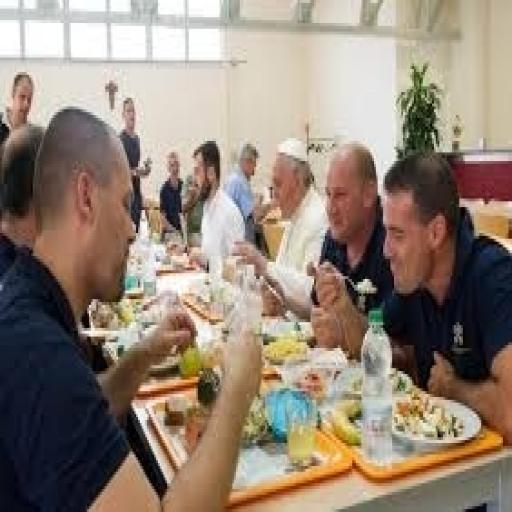eating: (0, 101, 265, 509)
